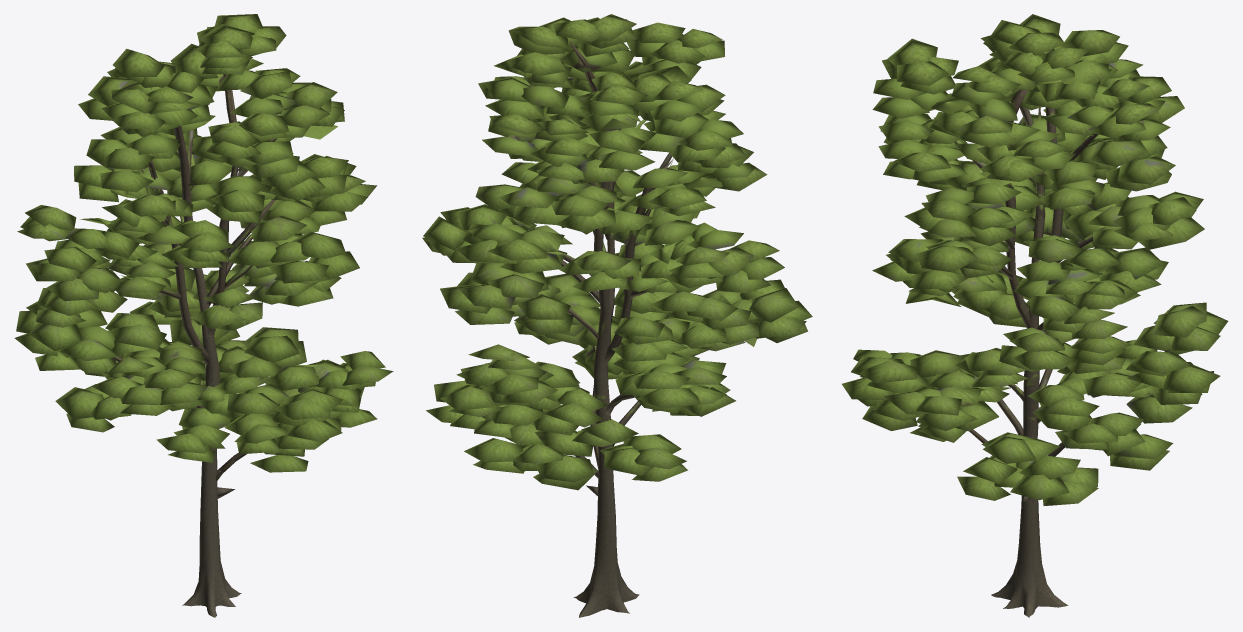
The model's file is elm.glb.
The picture shows the model from 3 angles, left to right: view 1: azimuth 30°, elevation 25°; view 2: azimuth 150°, elevation 25°; view 3: azimuth 270°, elevation 25°; orthographic projection. The views are drawn at different scales.
Bounding box in the file's own units: 0.5977 × 0.965 × 0.584.
Materials: 1 (1 with a texture image).
